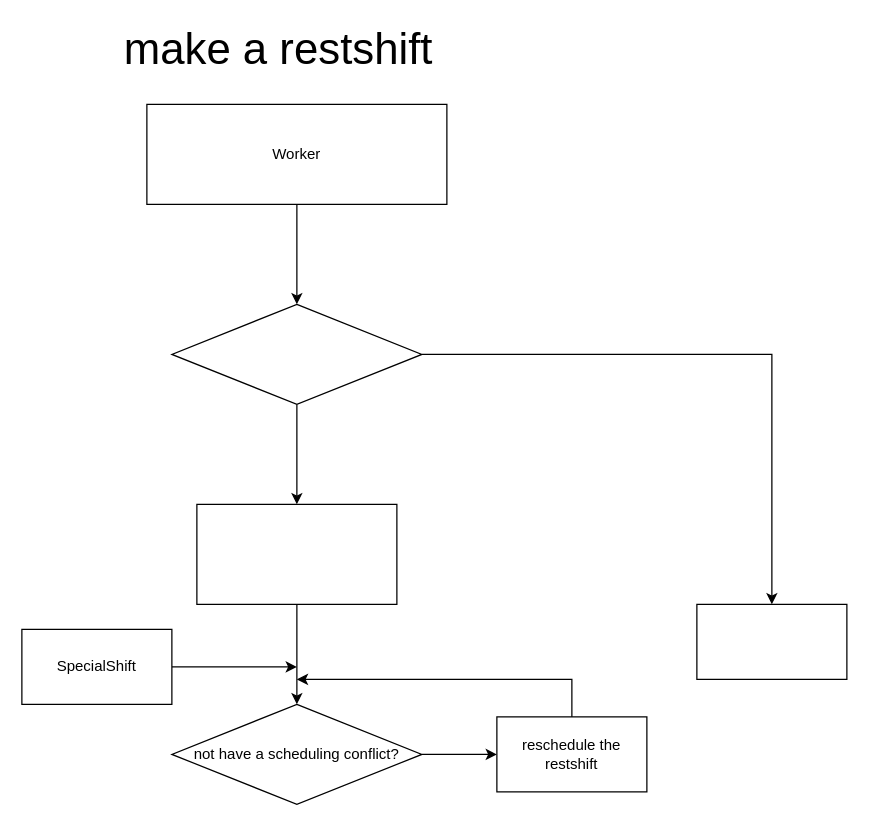
The diagram is 869 pixels wide and 826 high, and some of its shapes have lost their labels. The shapes that lost their labels are listed below. From the top down, each one's box as (x1, y1, x2, y2) in pixels, then its label:
(171, 303, 422, 404): need a rest?
(196, 503, 397, 604): tmp_shifts append(worker) sorted by mediun make tmp_restshift
